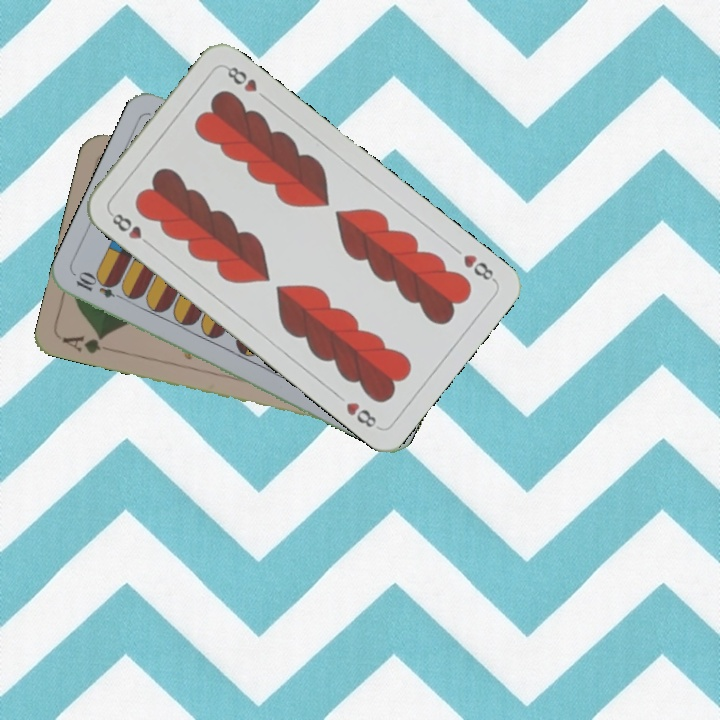E10: (72, 270, 129, 304)
GA: (58, 331, 108, 356)
H8: (106, 208, 156, 250), (459, 250, 499, 285)
